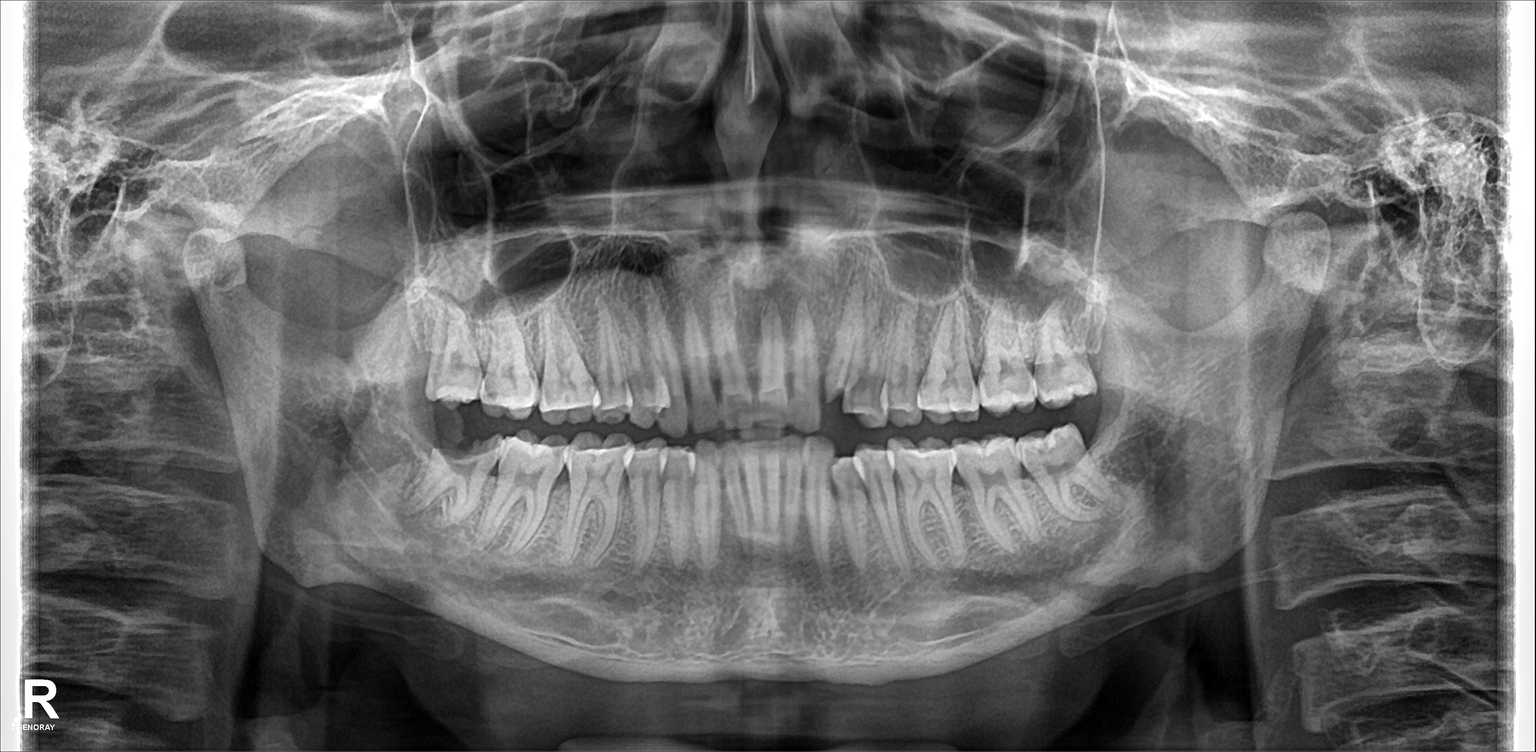Dental Caries: (432, 439, 496, 474)
